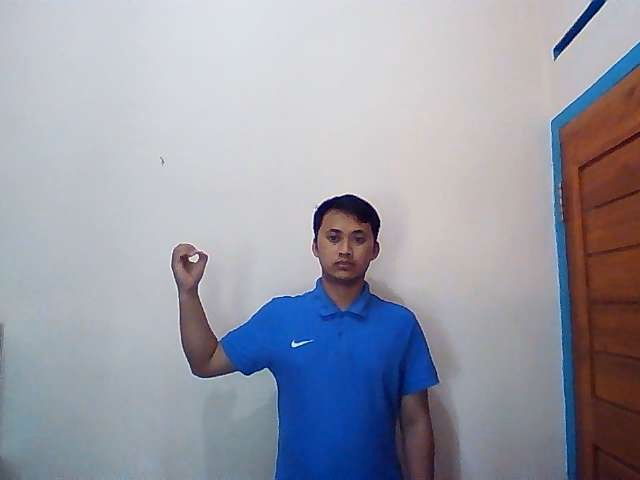O: (170, 241, 209, 289)
